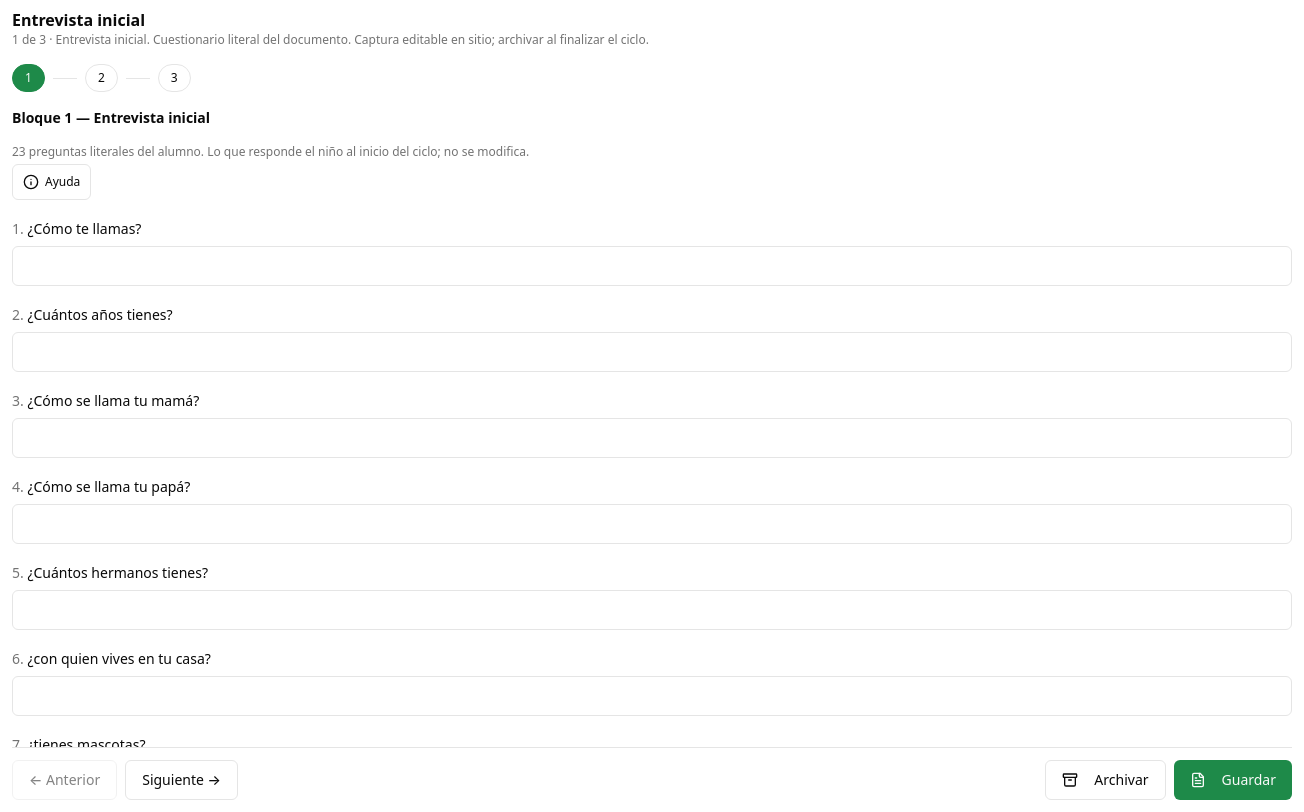
Test: EntrevistaInicialForm — IMPL-20260821-01 (stepper UX) › Anterior está deshabilitado en el paso 1 y Siguiente en el paso 3
Expected: the button with test id "entrevista-stepper-prev" is disabled, [12,760,117,800]
Expected: the button with test id "entrevista-stepper-next" is enabled, [125,760,238,800]
Click the button with test id "entrevista-stepper-step-3": {"x": 174, "y": 78} [158,64,191,92]
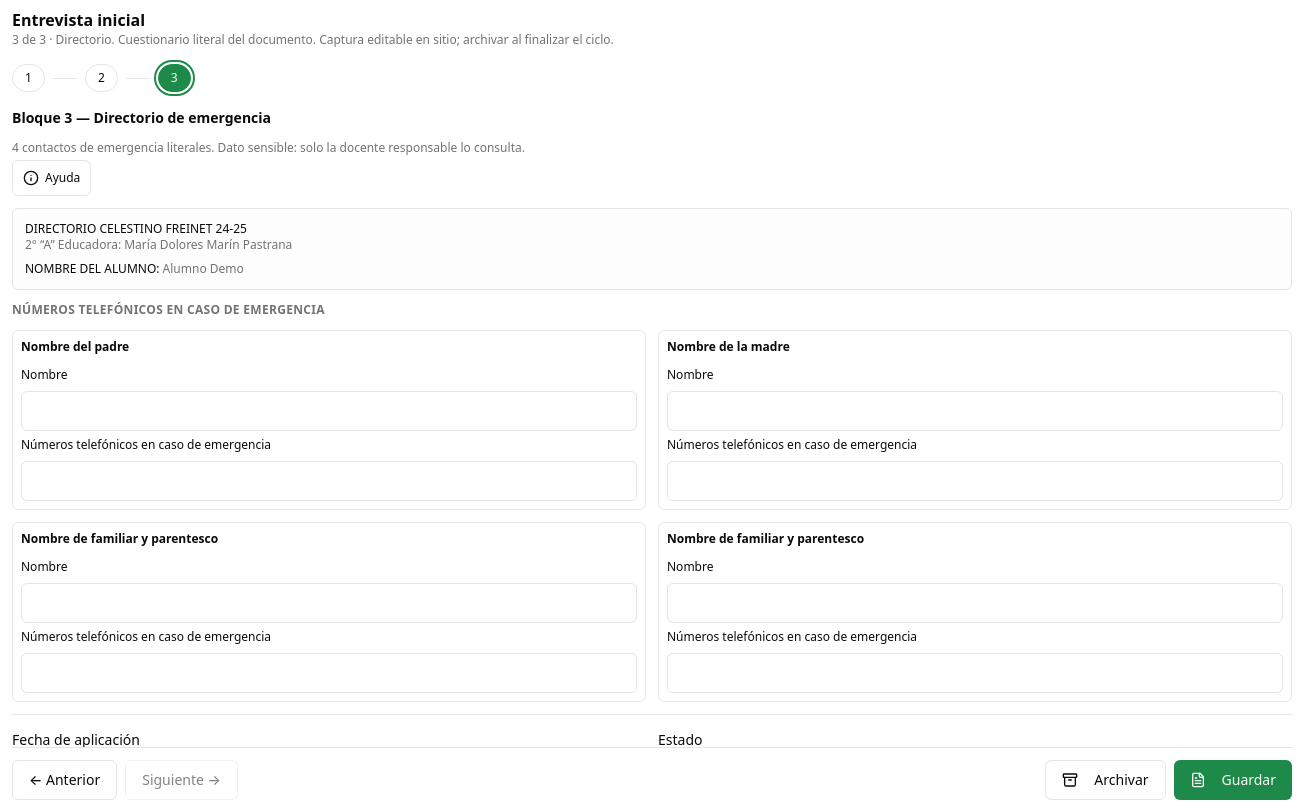
Now the button with test id "entrevista-stepper-next" is disabled, box [125,760,238,800]
Now the button with test id "entrevista-stepper-prev" is enabled, box [12,760,117,800]
